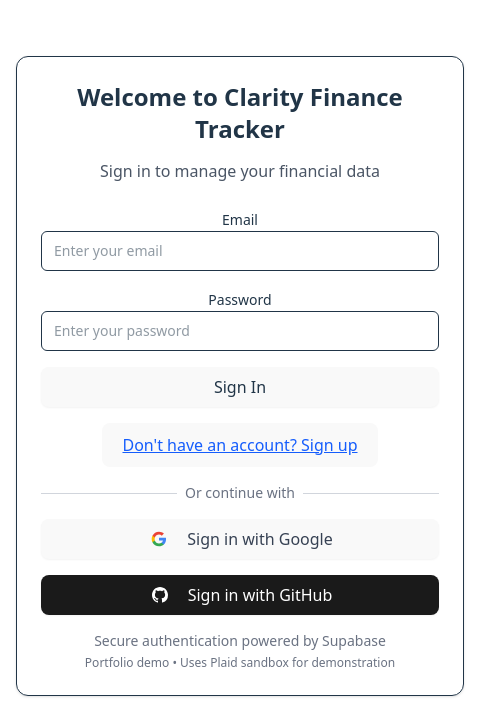
Test: Login Component › Form Interactions › shows error for mismatched passwords in sign up
The width and height of the screenshot is (481, 728).
# Switch to sign up
Click the button "Don't have an account? Sign up" at {"x": 240, "y": 445}, box left=102, top=423, right=378, bottom=467
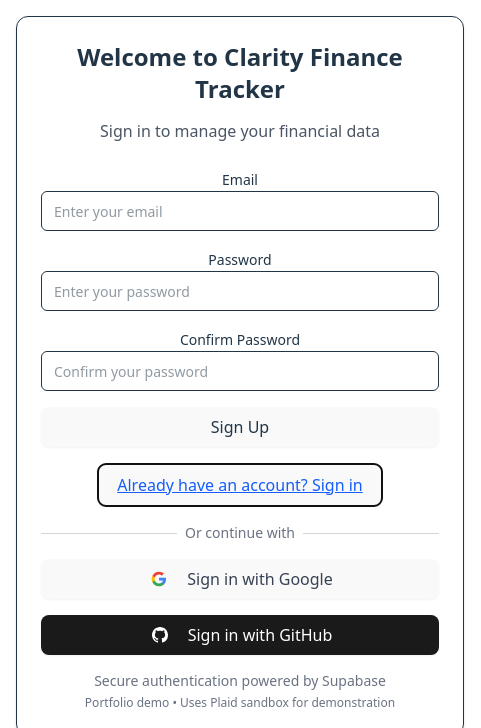
# Fill form with mismatched passwords
Type "test@example.com" into the field labelled "Email" at {"x": 240, "y": 211}, box left=41, top=191, right=439, bottom=231
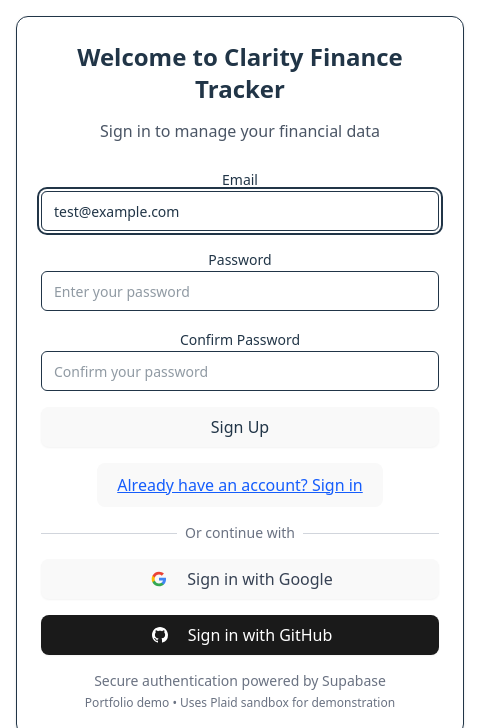
Type "password123" into the password field labelled "Password" at {"x": 240, "y": 291}, box left=41, top=271, right=439, bottom=311
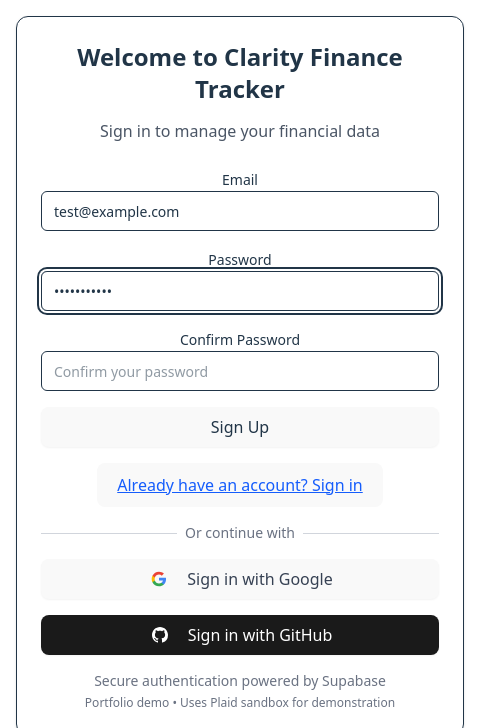
Type "different" into the password field labelled "Confirm Password" at {"x": 240, "y": 371}, box left=41, top=351, right=439, bottom=391
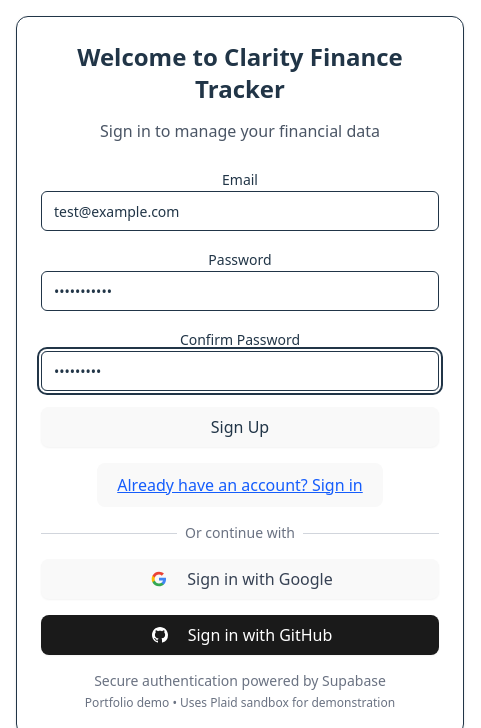
# Submit form
Click the button "Sign Up" at {"x": 240, "y": 427}, box left=41, top=407, right=439, bottom=447
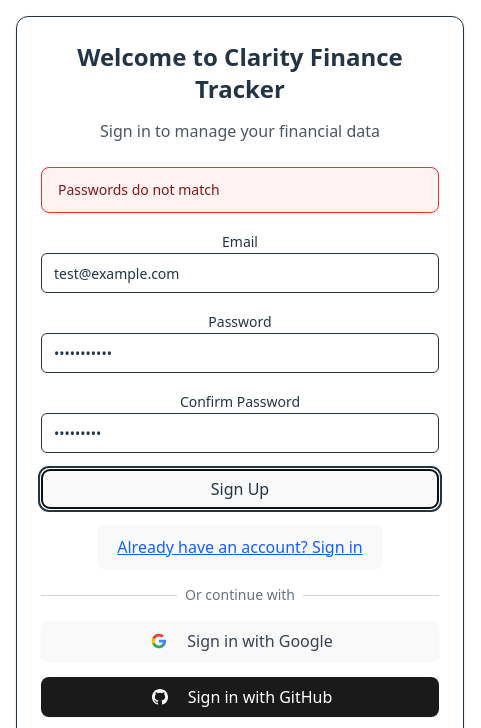
expect the text "Passwords do not match" is shown: met, box left=58, top=180, right=220, bottom=199
